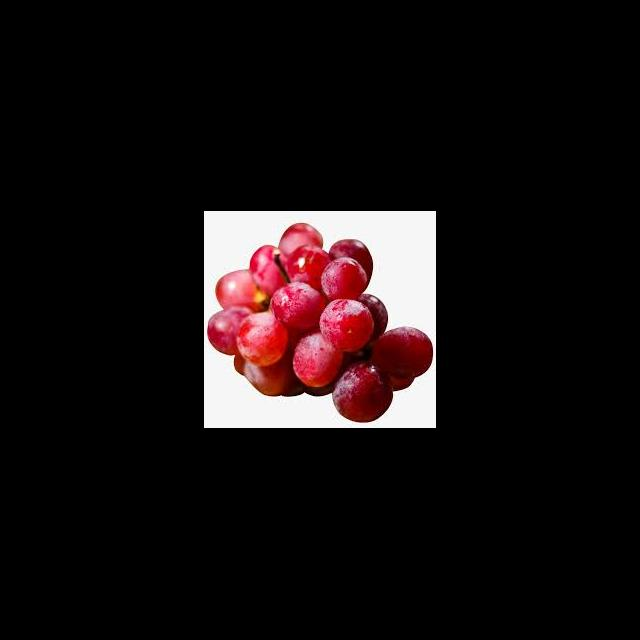grape: (206, 222, 433, 422)
